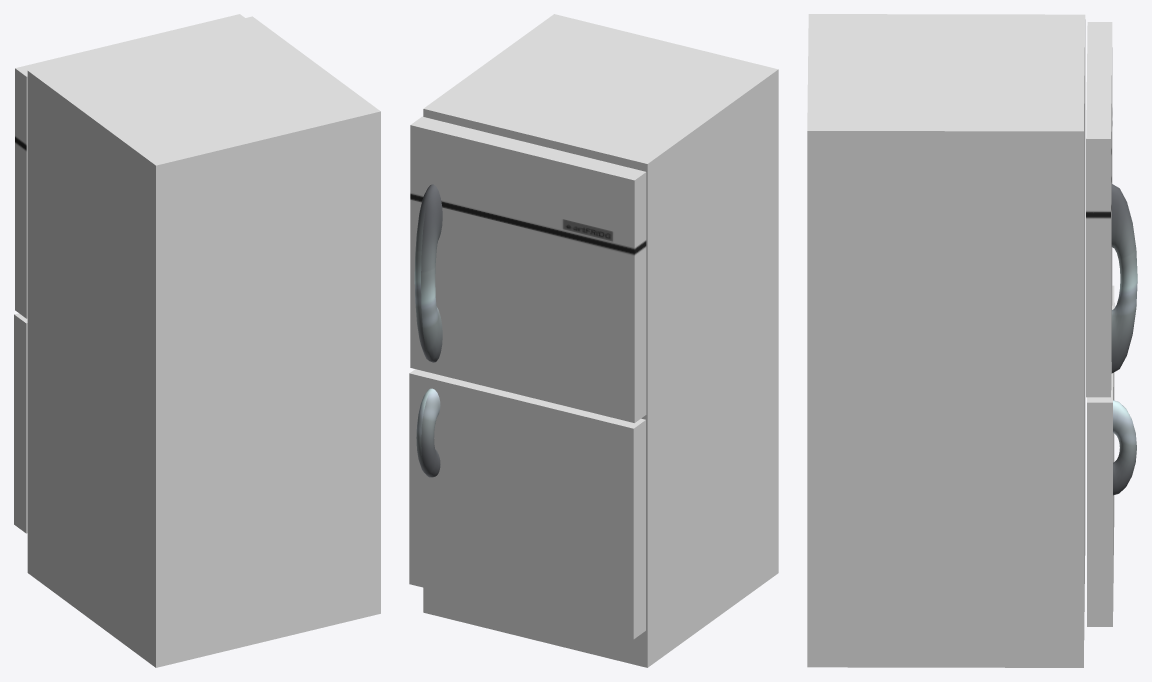
Rendered from Fridge.FBX.
3 renders of one model, left to right at view 1: azimuth 30°, elevation 25°; view 2: azimuth 150°, elevation 25°; view 3: azimuth 270°, elevation 25°, orthographic. The views are drawn at different scales.
Visible parts, largest first — view 1: Fridge; view 2: Fridge; view 3: Fridge.
Boxes of the visible parts, x1,y1,x2,y2 form: Fridge: (14, 14, 380, 667); Fridge: (409, 14, 778, 667); Fridge: (807, 14, 1137, 667).
Bounding box in the file's own units: 0.7605 × 1.62 × 0.9037.
